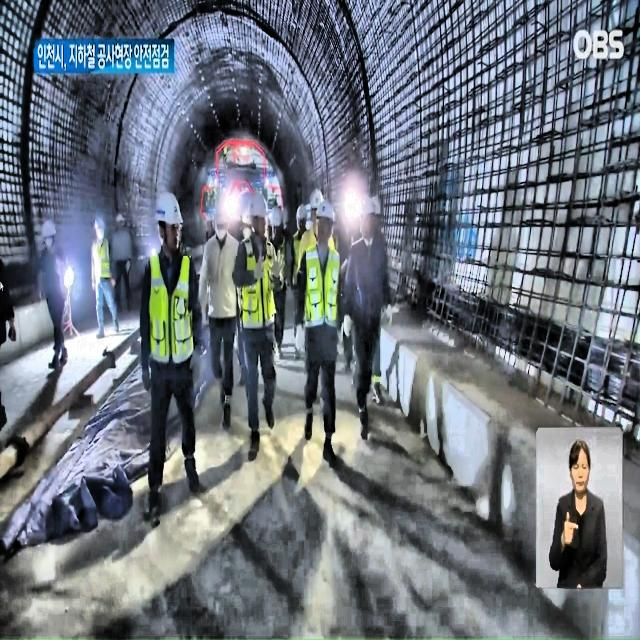safety_helmet: (152, 194, 184, 232), (358, 200, 382, 223), (212, 200, 228, 229), (251, 194, 267, 222), (316, 200, 332, 226), (41, 218, 56, 237), (271, 206, 283, 229), (296, 206, 308, 227), (95, 215, 105, 231)
safety_jacket: (148, 250, 196, 362), (241, 236, 278, 325), (302, 246, 340, 325), (92, 242, 111, 289)
